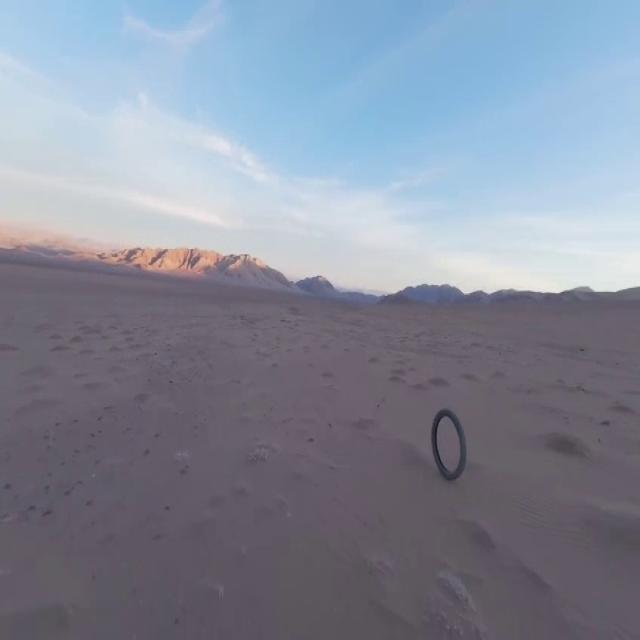Tire: (432, 408, 465, 481)
